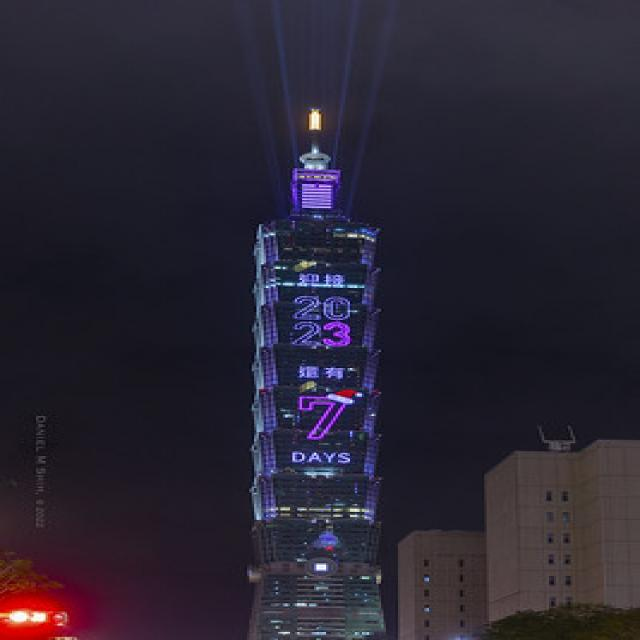Normal_building: (230, 105, 400, 640)
